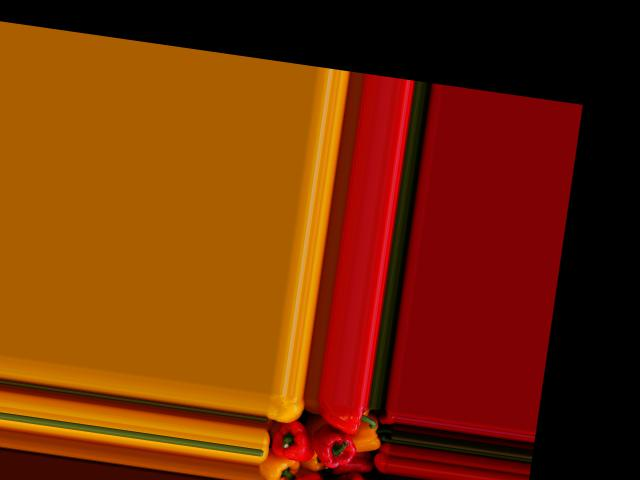bell_pepper: (257, 450, 297, 480)
